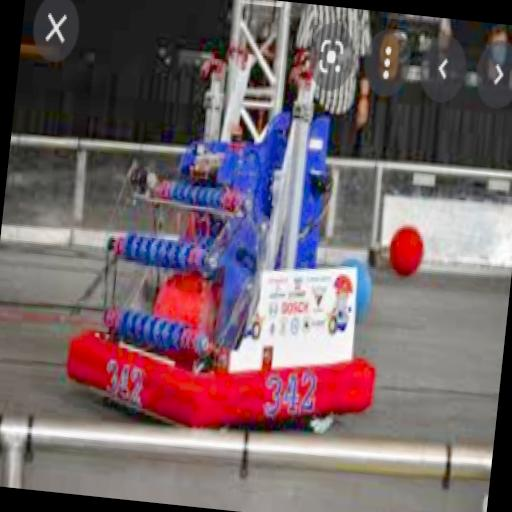robot: (62, 27, 410, 435)
